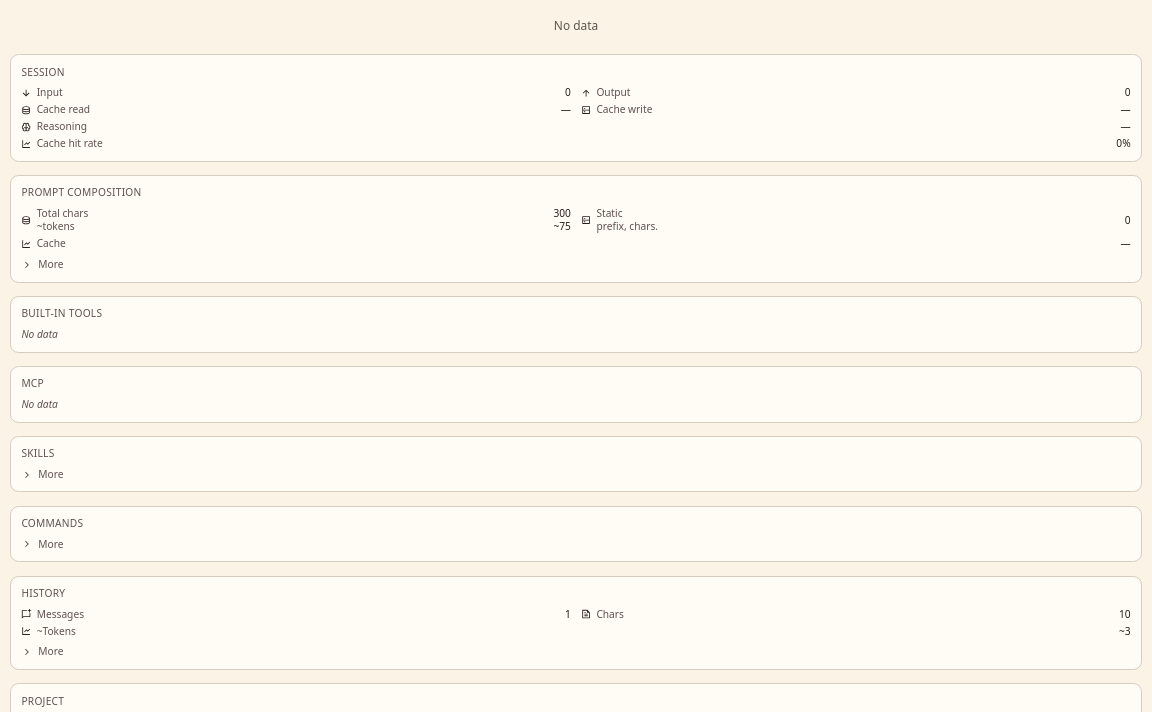
Test: StatsTab — секция «Команды» (ADR-046 §8.2) › счётчики и последние вызовы из skillsStore
The image size is (1152, 712).
Step 1. Click the button "More" below "Commands" → (27,544), box [21,538,1131,551]
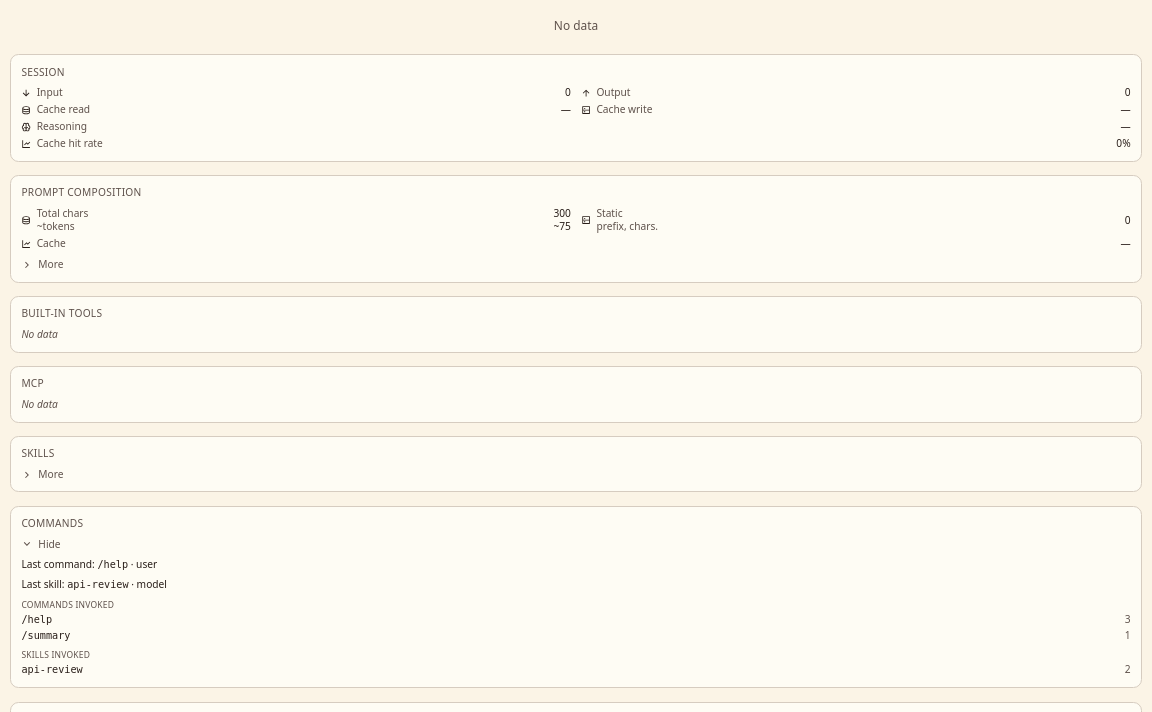
Expected: the element with test id "stats-command-invocations" shows "/help", [21,599,1131,642]
Expected: the element with test id "stats-command-invocations" shows "3", [1125,612,1131,626]
Expected: the element with test id "stats-command-invocations" shows "/summary", [21,599,1131,642]
